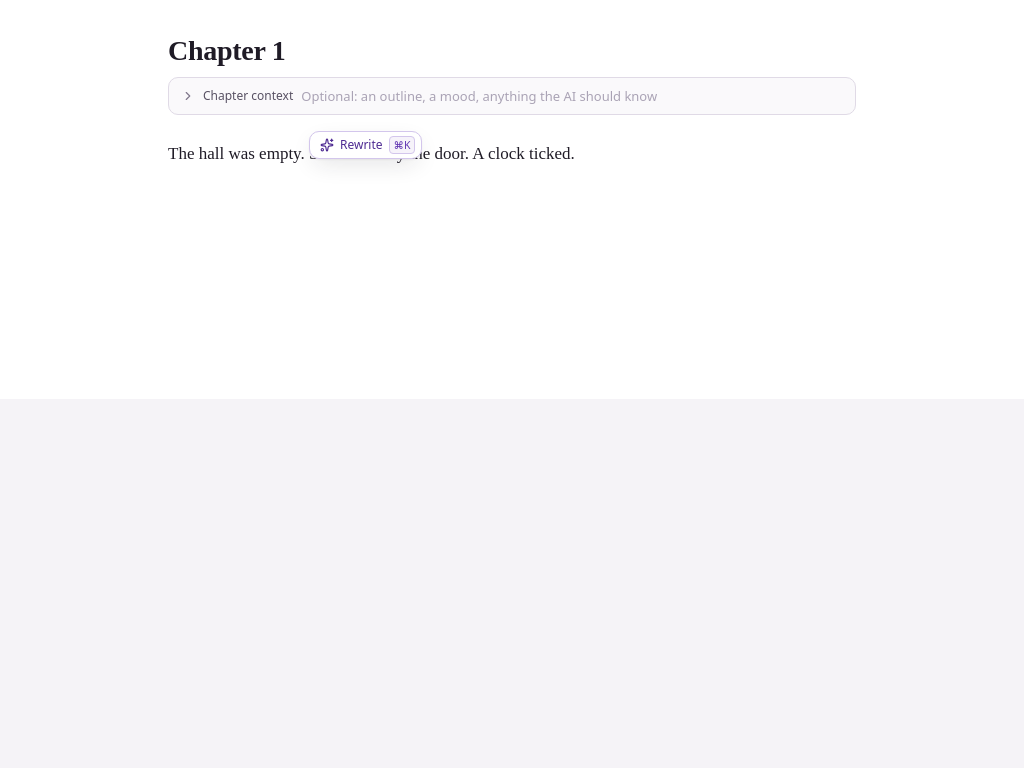
Test case: selection rewrite flow › abandons a review when the document changes underneath it
Click the button "Rewrite ⌘K" at point(366, 145), box 309,131 -> 422,159
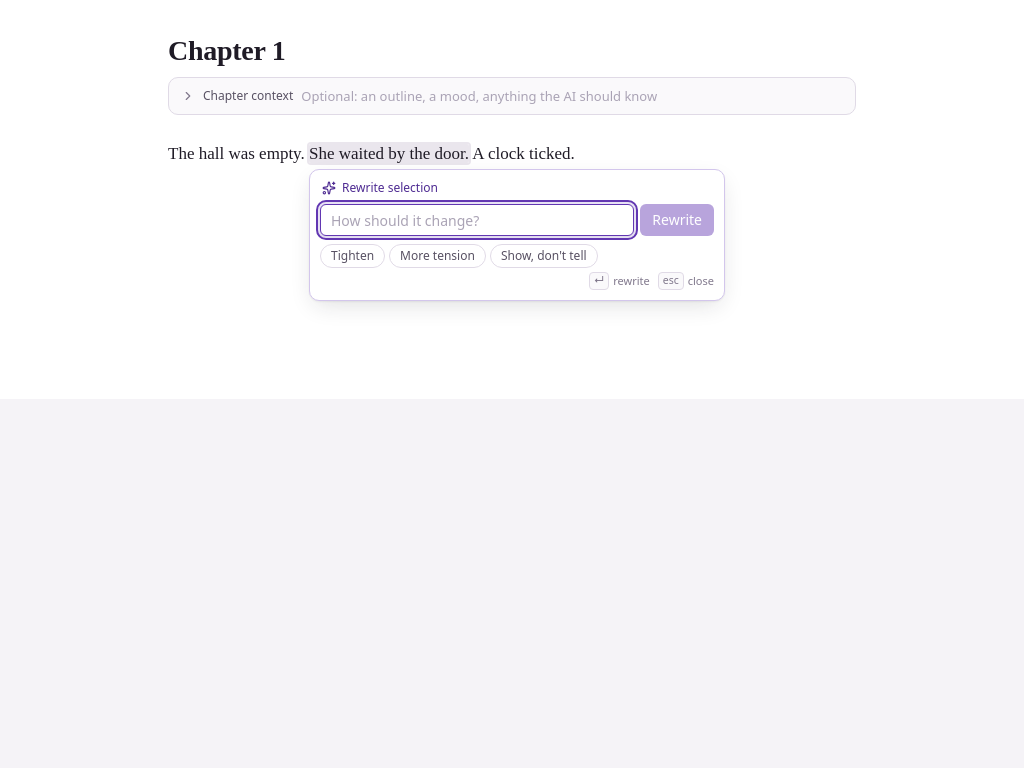
Type "tighten" into the field named "Rewrite instruction" at point(477, 220), box 320,204 -> 634,236
Then press Enter
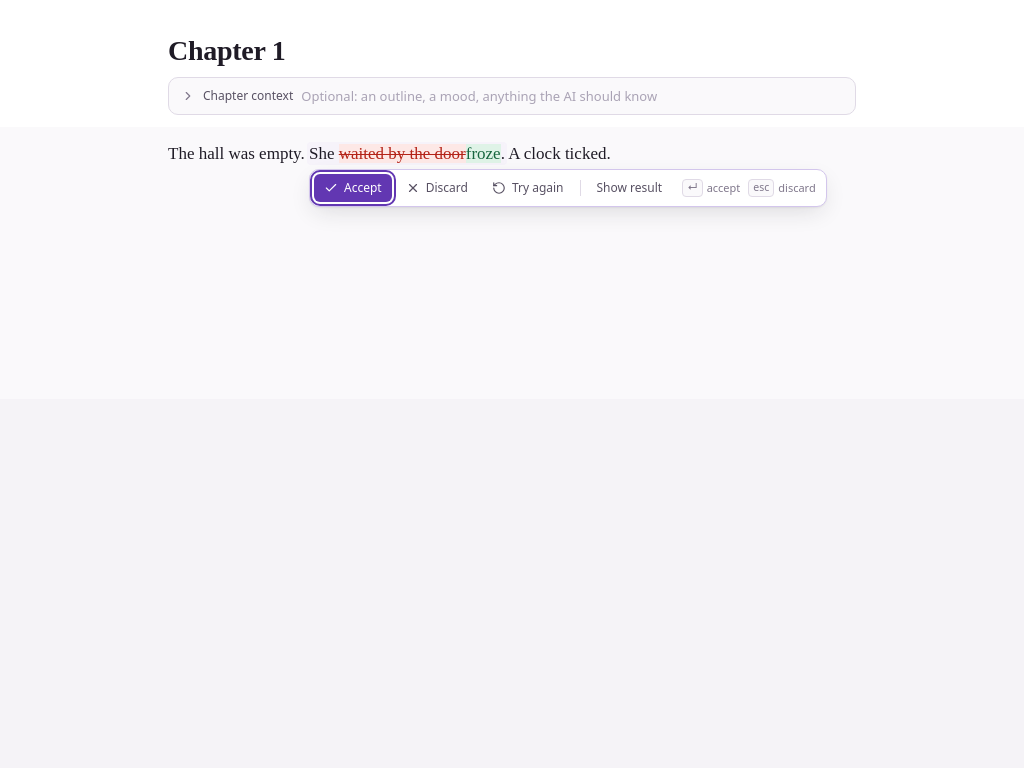
Check: the element named "review rewrite" is shown, box 309,169 -> 827,207
